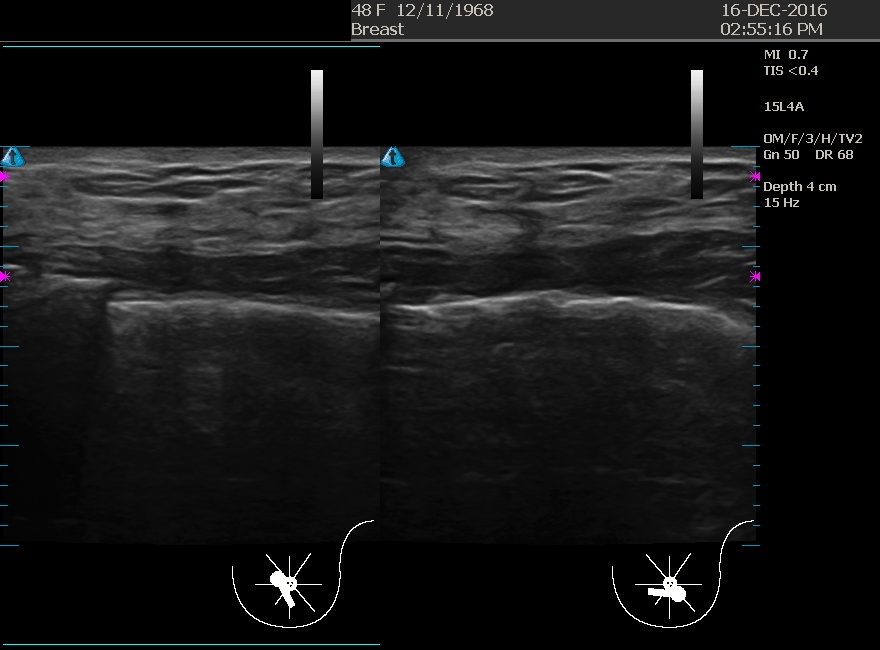BIRADS_3: (64, 150, 264, 350), (425, 151, 625, 351)
